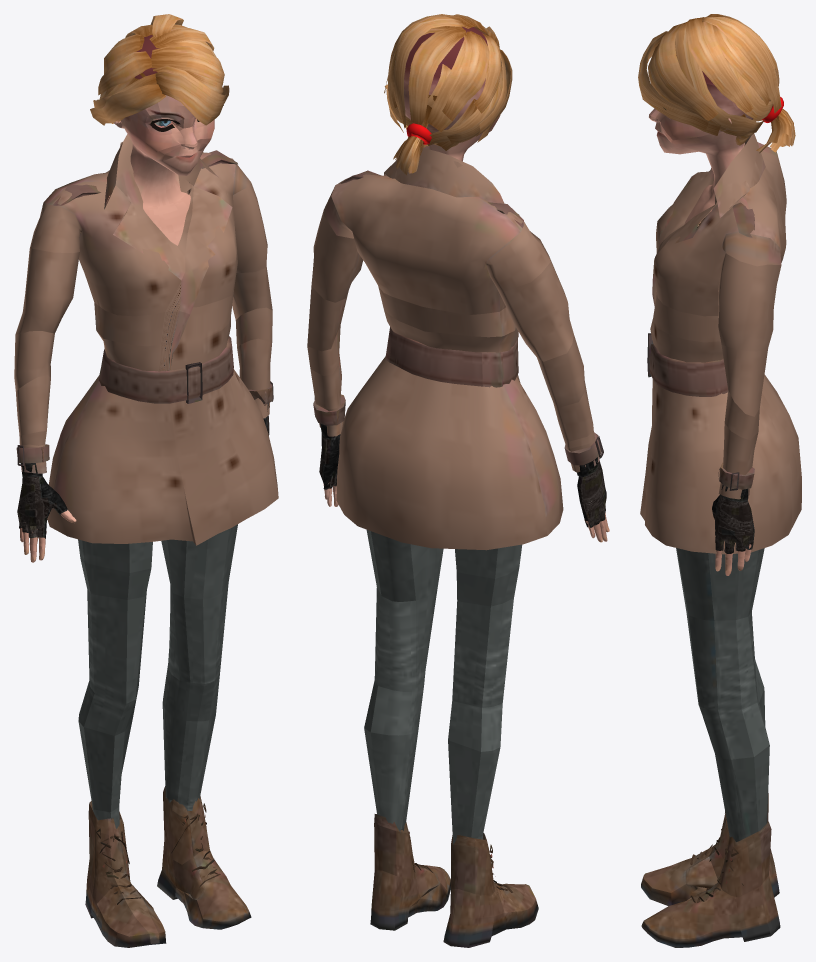
File: GIRL.fbx
3 views of the same model, side by side, from view 1: azimuth 30°, elevation 25°; view 2: azimuth 150°, elevation 25°; view 3: azimuth 270°, elevation 25° (orthographic).
Visible parts, largest first — view 1: GIRL; view 2: GIRL; view 3: GIRL.
Boxes of the visible parts, left/top/right/bottom form: GIRL: left=14, top=14, right=278, bottom=947; GIRL: left=307, top=14, right=609, bottom=947; GIRL: left=638, top=14, right=801, bottom=947.
Size of the model in its own units: 53.36 by 168 by 27.7.
1 material, 1 textured.
